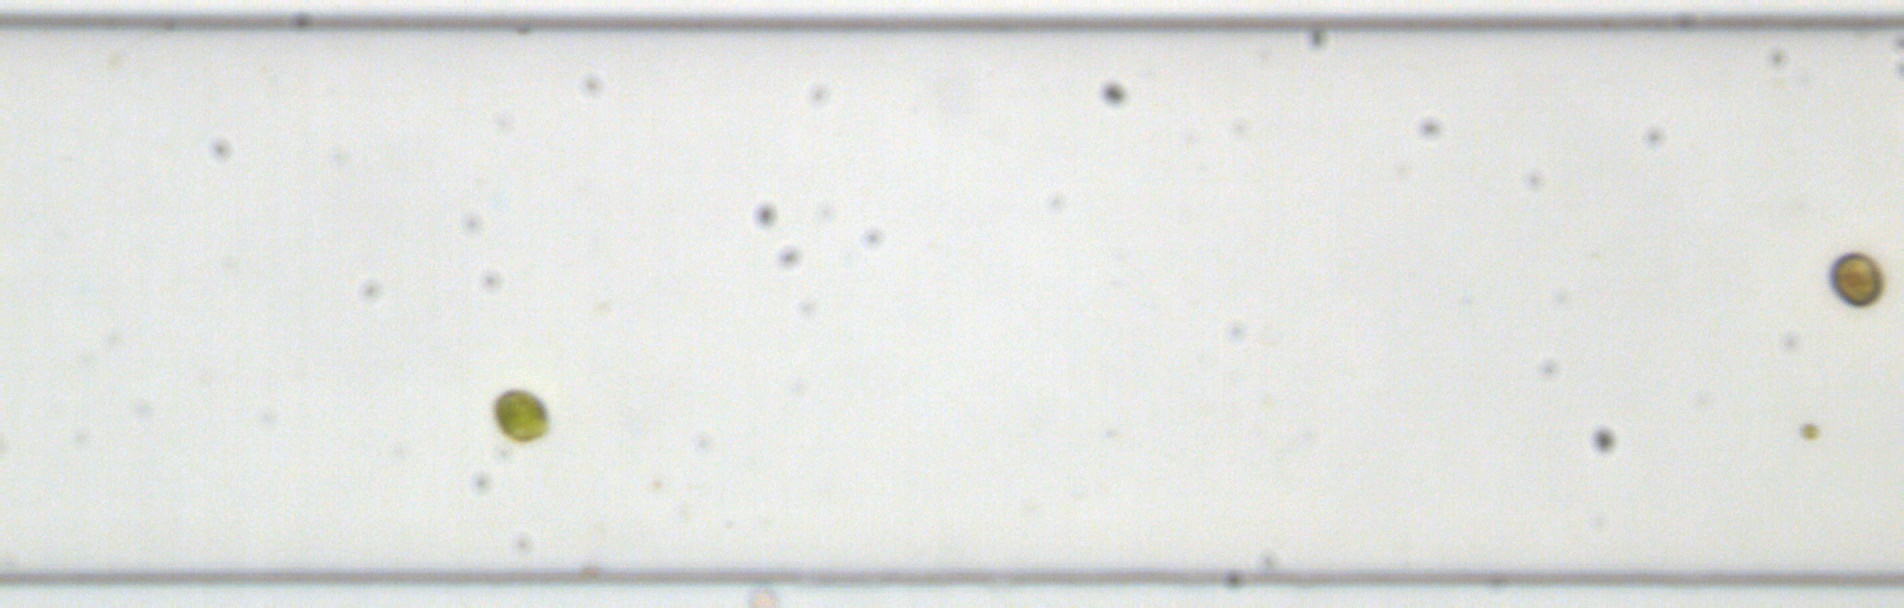Chlorella: (1797, 419, 1821, 442)
Effrenium: (1825, 248, 1889, 311)
Platymonas: (491, 386, 551, 445)
